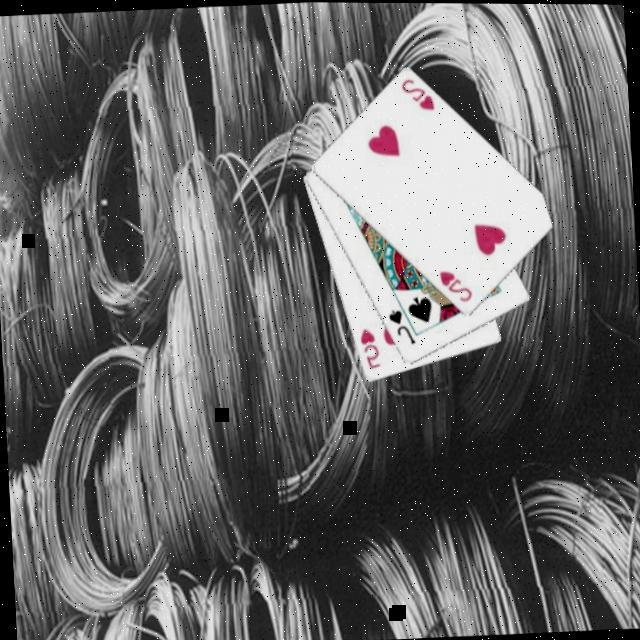2H: (396, 72, 436, 114), (434, 264, 474, 304)
5H: (354, 324, 381, 371)
JS: (383, 304, 417, 348)
